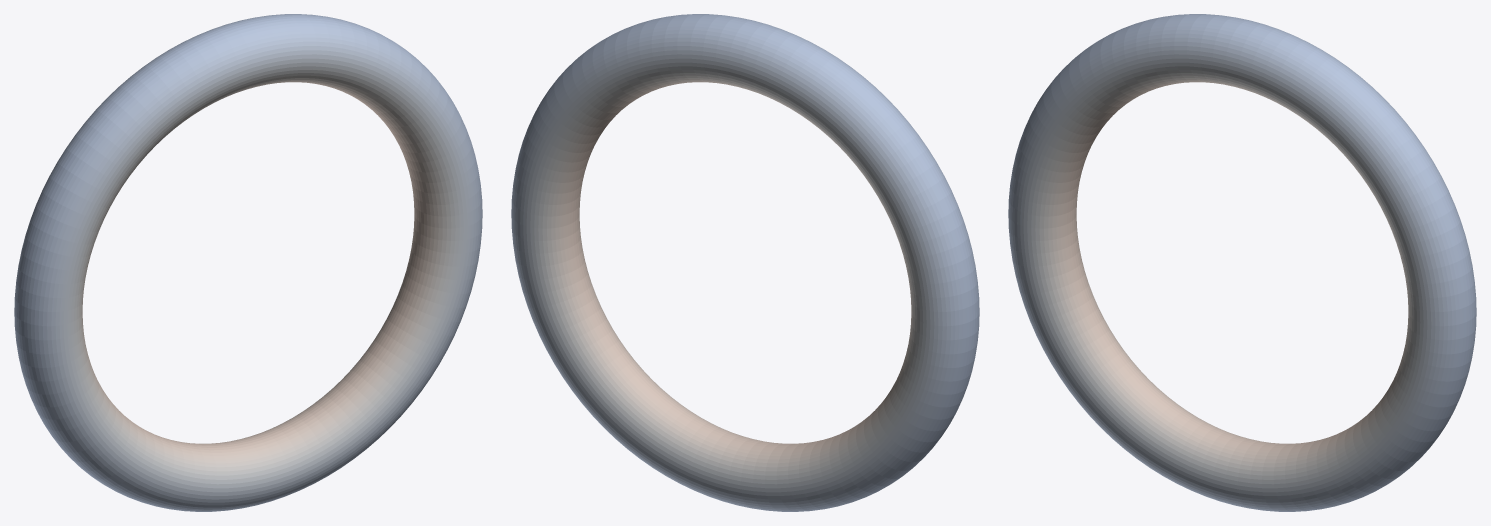
3 renders of one model, left to right at view 1: azimuth 30°, elevation 25°; view 2: azimuth 150°, elevation 25°; view 3: azimuth 330°, elevation 25°, orthographic.
Parts seen in each view (by area): view 1: world; view 2: world; view 3: world.
Boxes of the visible parts, <box> form: world: <box>14,14,482,511</box>; world: <box>511,14,979,511</box>; world: <box>1008,14,1476,511</box>.
Size of the model in its own units: 29.33 by 29.33 by 3.77.
